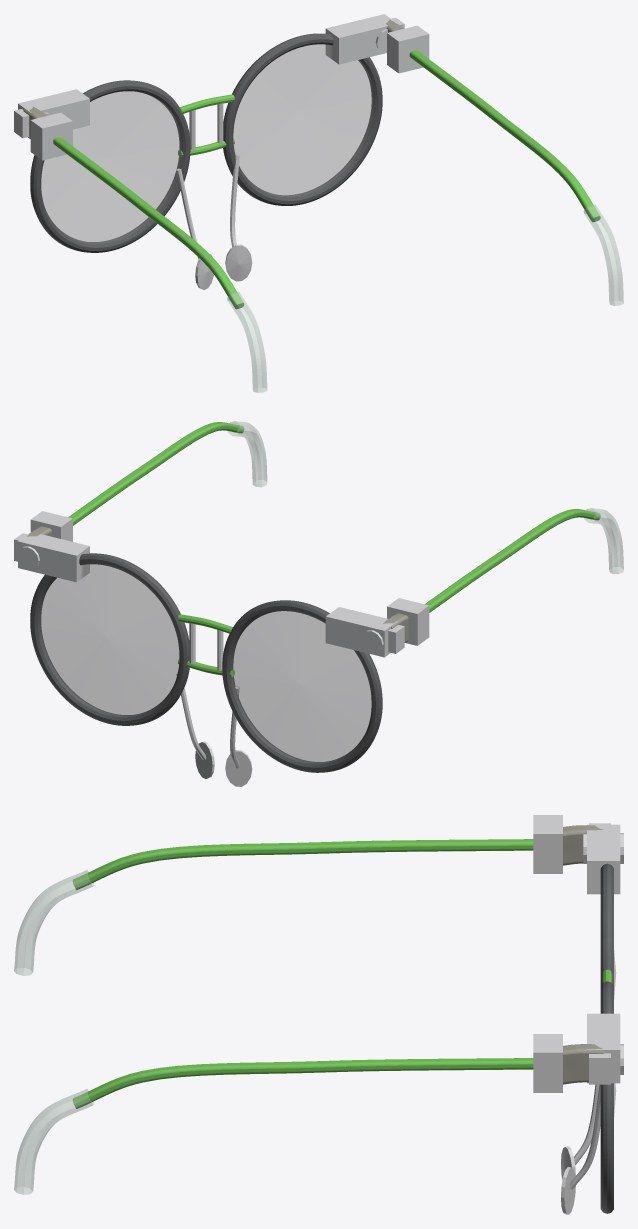
File: Accessories_glasses__0026.glb
3 views of the same model, one above another, from view 1: azimuth 30°, elevation 25°; view 2: azimuth 150°, elevation 25°; view 3: azimuth 270°, elevation 25° (orthographic). The views are drawn at different scales.
Visible parts, largest first — view 1: front_frame::lens_right, front_frame::lens_left, front_frame::rim_right, front_frame::rim_left, temple_left::arm_left, temple_right::arm_right, front_frame::hinge_block_right, temple_right::ear_tip_right, temple_left::ear_tip_left, temple_left::knuckle_left, temple_right::knuckle_right, front_frame::hinge_block_left (+1 smaller); view 2: front_frame::lens_right, front_frame::lens_left, front_frame::rim_right, front_frame::rim_left, front_frame::hinge_block_right, front_frame::hinge_block_left, temple_left::arm_left, temple_right::arm_right, temple_left::knuckle_left, temple_right::ear_tip_right, temple_left::ear_tip_left, temple_right::knuckle_right (+2 smaller); view 3: temple_left::arm_left, temple_right::arm_right, temple_left::ear_tip_left, temple_right::ear_tip_right, front_frame::rim_right, front_frame::hinge_block_left, temple_left::knuckle_left, temple_right::knuckle_right, front_frame::hinge_block_right, front_frame::rim_left, flex_link_right::flex_link_right, flex_link_left::flex_link_left (+3 smaller).
Part boxes in pixels (bbox=[...]): front_frame::lens_right: bbox=[233, 44, 374, 196]; front_frame::lens_left: bbox=[41, 91, 181, 243]; front_frame::rim_right: bbox=[223, 33, 382, 205]; front_frame::rim_left: bbox=[30, 80, 190, 252]; temple_left::arm_left: bbox=[53, 137, 243, 309]; temple_right::arm_right: bbox=[409, 50, 600, 221]; front_frame::hinge_block_right: bbox=[325, 14, 397, 64]; temple_right::ear_tip_right: bbox=[583, 204, 623, 305]; temple_left::ear_tip_left: bbox=[227, 291, 267, 392]; temple_left::knuckle_left: bbox=[30, 112, 72, 160]; temple_right::knuckle_right: bbox=[387, 25, 429, 73]; front_frame::hinge_block_left: bbox=[18, 89, 89, 138]; front_frame::lens_right: bbox=[40, 564, 179, 715]; front_frame::lens_left: bbox=[233, 611, 371, 761]; front_frame::rim_right: bbox=[30, 553, 189, 725]; front_frame::rim_left: bbox=[222, 600, 382, 772]; front_frame::hinge_block_right: bbox=[18, 532, 89, 582]; front_frame::hinge_block_left: bbox=[325, 607, 397, 657]; temple_left::arm_left: bbox=[425, 509, 600, 612]; temple_right::arm_right: bbox=[68, 422, 244, 525]; temple_left::knuckle_left: bbox=[387, 598, 429, 645]; temple_right::ear_tip_right: bbox=[227, 421, 267, 487]; temple_left::ear_tip_left: bbox=[584, 508, 623, 574]; temple_right::knuckle_right: bbox=[30, 511, 72, 541]; temple_left::arm_left: bbox=[72, 839, 533, 889]; temple_right::arm_right: bbox=[72, 1058, 533, 1108]; temple_left::ear_tip_left: bbox=[14, 870, 94, 975]; temple_right::ear_tip_right: bbox=[14, 1089, 94, 1194]; front_frame::rim_right: bbox=[600, 981, 613, 1213]; front_frame::hinge_block_left: bbox=[587, 824, 620, 894]; temple_left::knuckle_left: bbox=[533, 815, 562, 873]; temple_right::knuckle_right: bbox=[533, 1034, 562, 1092]; front_frame::hinge_block_right: bbox=[587, 1013, 620, 1083]; front_frame::rim_left: bbox=[600, 863, 613, 985]; flex_link_right::flex_link_right: bbox=[563, 1044, 603, 1084]; flex_link_left::flex_link_left: bbox=[563, 825, 603, 865].
Bounding box in the file's own units: 0.1521 × 0.0804 × 0.165.
Materials: 6 (4 with a texture image).
